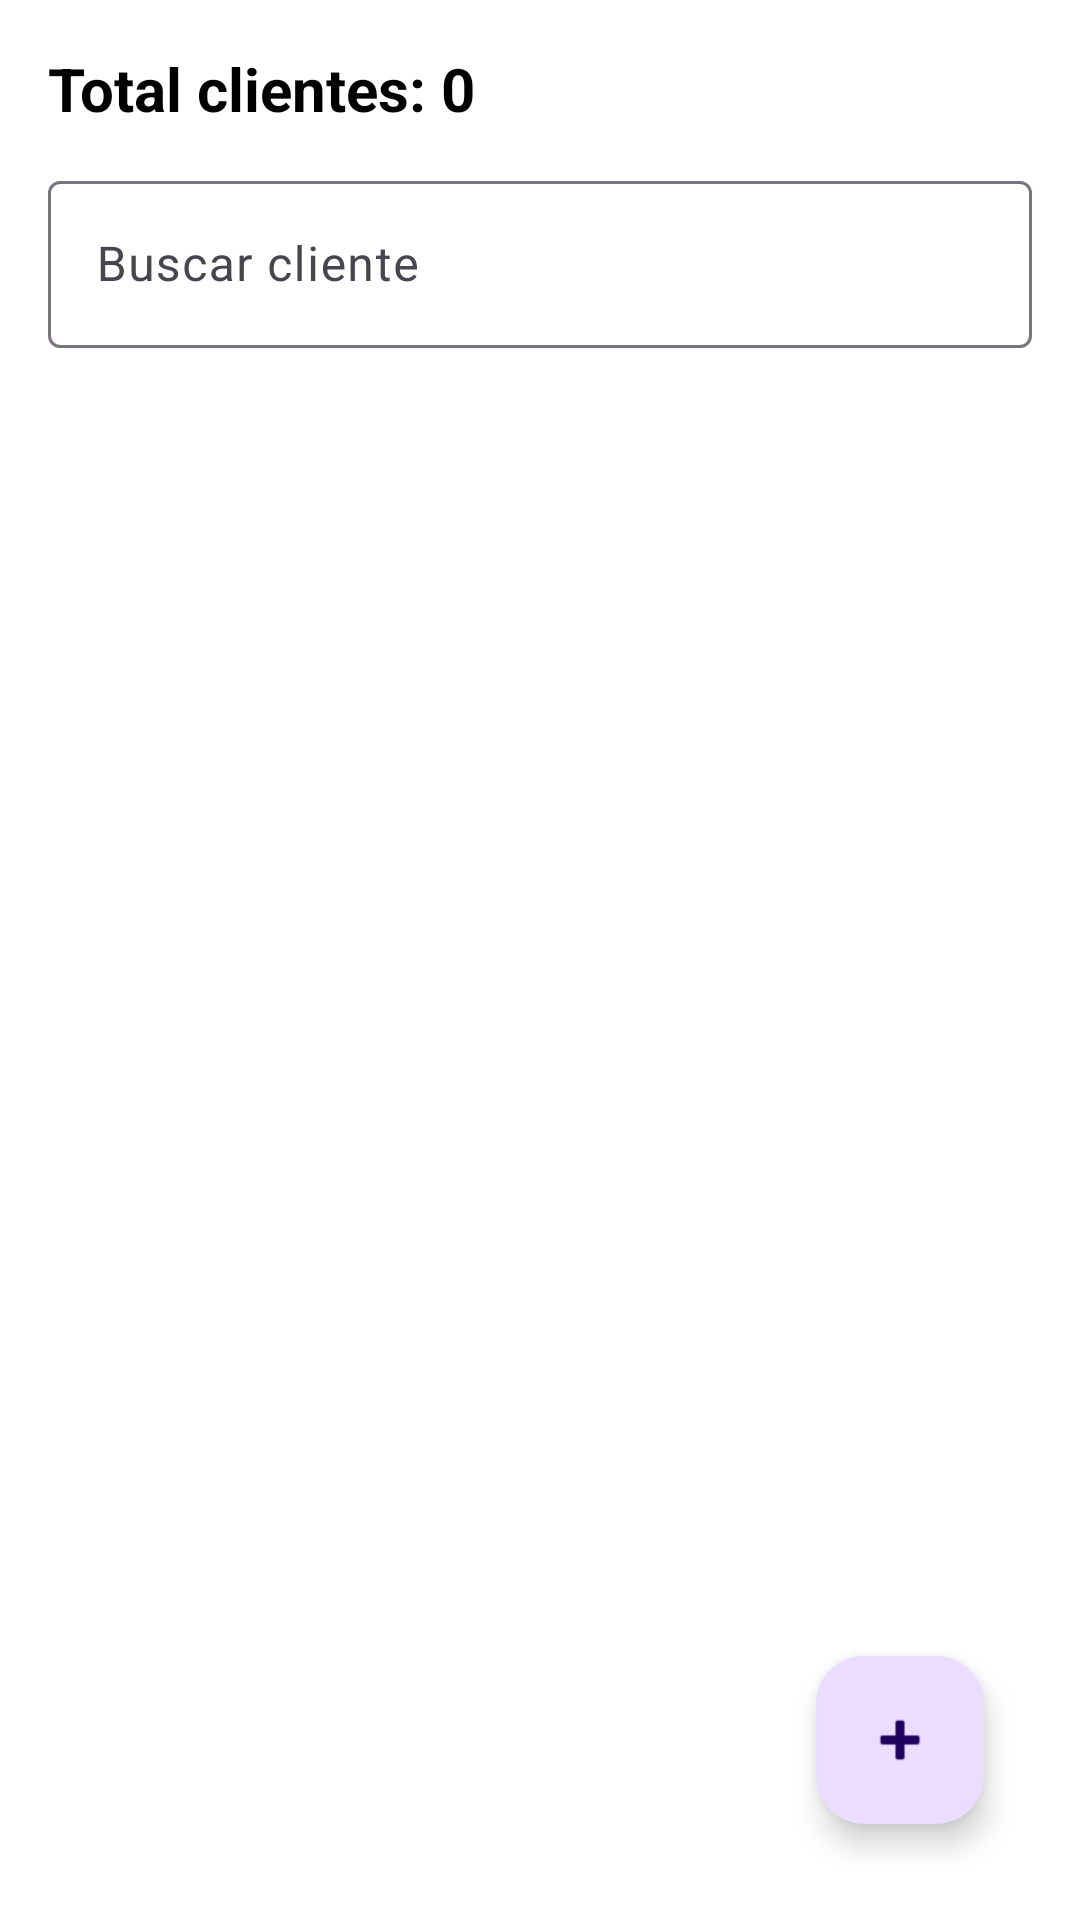

Icons on this 1080w x 1920h Android screen, each with the point to tap as [x,y]:
Añadir cliente: [900,1740]
